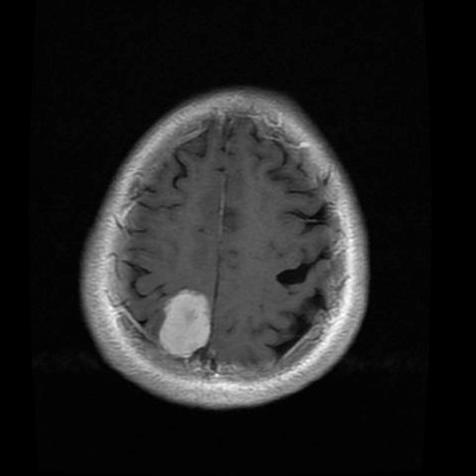Tumour-Pituitary: (147, 283, 241, 372)
